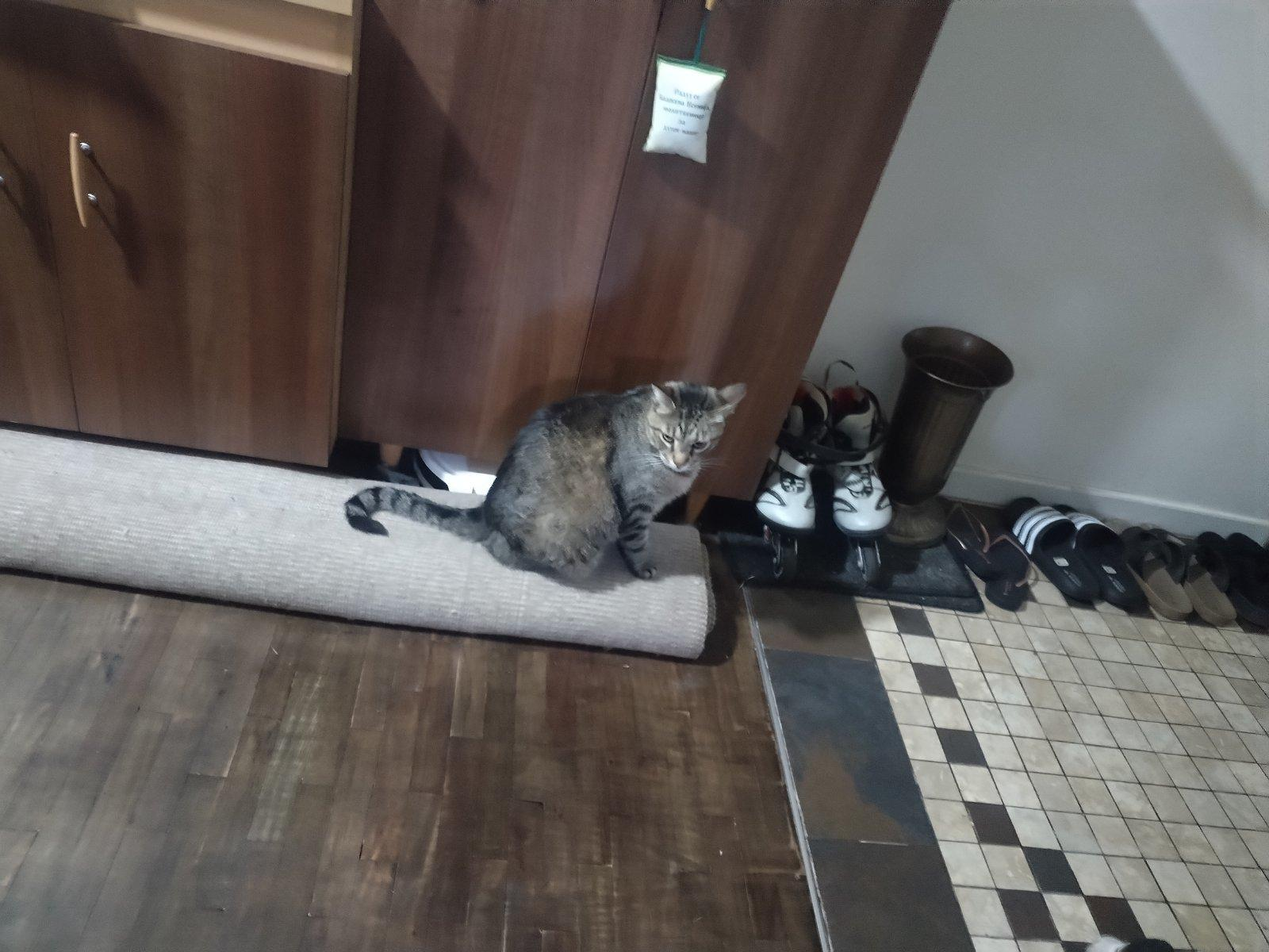macka: (346, 379, 749, 584)
